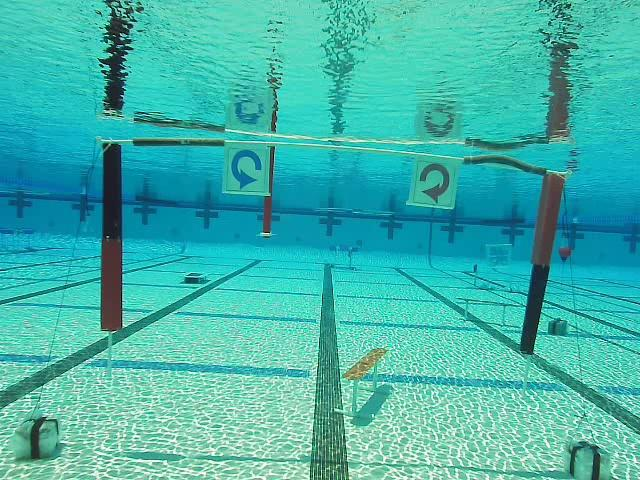buoy: (559, 247, 572, 264)
dropper: (181, 270, 205, 284)
gate: (101, 137, 565, 355)
gate_blue: (224, 143, 271, 195)
gate_leg_l: (100, 143, 122, 332)
gate_leg_r: (520, 172, 565, 354)
gate_red: (410, 159, 458, 208)
table: (330, 245, 358, 270)
torpedo: (488, 245, 511, 266)
